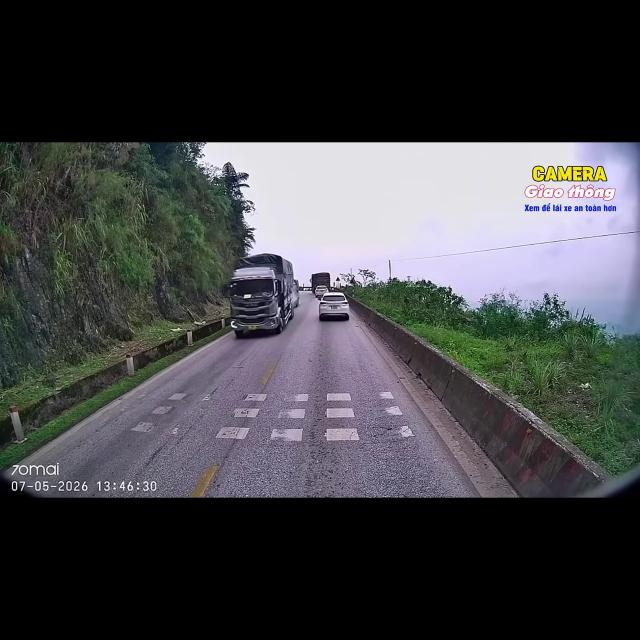car: (318, 292, 350, 321), (315, 285, 328, 298)
truck: (227, 253, 295, 337), (310, 272, 330, 293), (293, 279, 299, 307)
